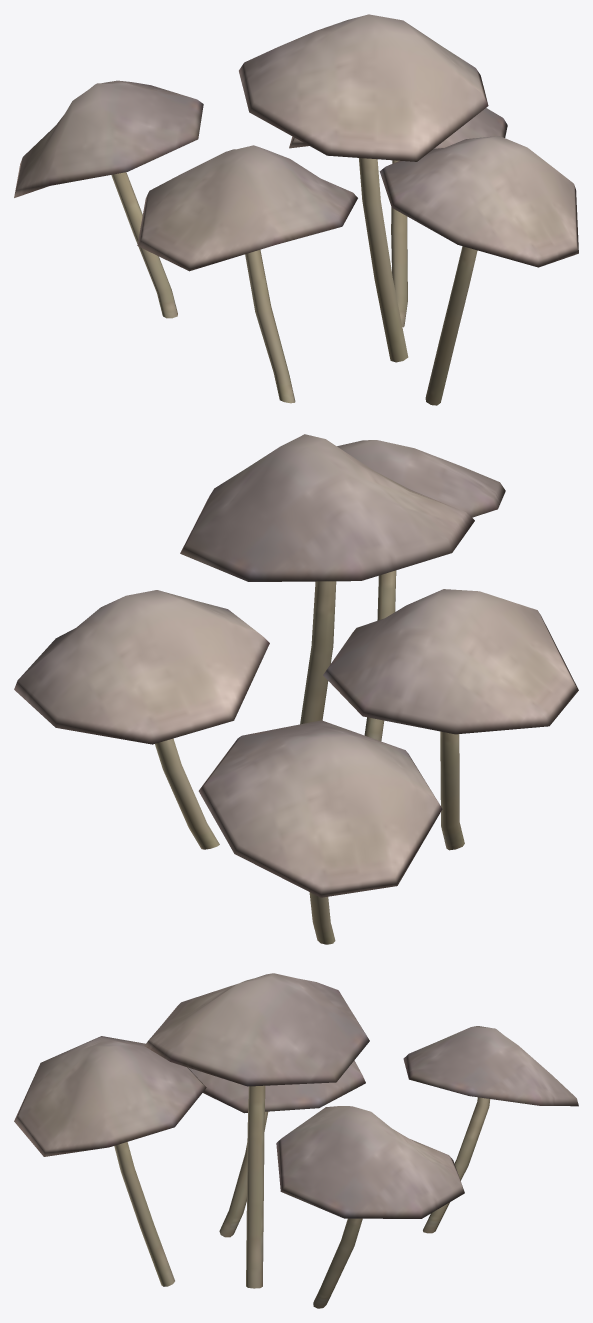
The model's file is Mushroom_Common.gltf.
The picture shows the model from 3 angles, top to bottom: view 1: azimuth 30°, elevation 25°; view 2: azimuth 150°, elevation 25°; view 3: azimuth 270°, elevation 25°; orthographic projection. The views are drawn at different scales.
Visible parts, largest first — view 1: Mushroom_Common; view 2: Mushroom_Common; view 3: Mushroom_Common.
Part boxes in pixels (x1=…): Mushroom_Common: x1=14, y1=14, x2=578, y2=405; Mushroom_Common: x1=14, y1=434, x2=578, y2=944; Mushroom_Common: x1=14, y1=973, x2=578, y2=1308.
Size of the model in its own units: 0.5637 by 0.4635 by 0.7791.
Materials: 1 (1 with a texture image).
